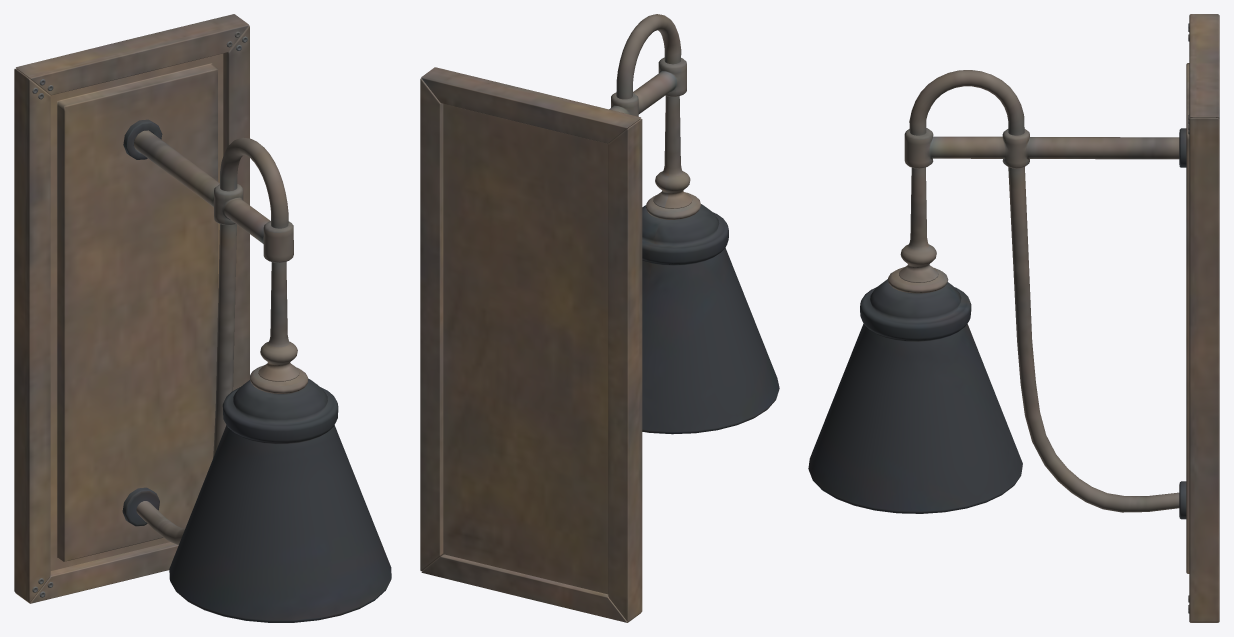
Rendered from wall_sconce.glb.
The picture shows the model from 3 angles, left to right: view 1: azimuth 30°, elevation 25°; view 2: azimuth 150°, elevation 25°; view 3: azimuth 270°, elevation 25°; orthographic projection. The views are drawn at different scales.
Visible parts, largest first — view 1: industrial_wall_sconce; view 2: industrial_wall_sconce; view 3: industrial_wall_sconce.
Boxes of the visible parts, x1,y1,x2,y2 form: industrial_wall_sconce: (14, 14, 391, 622); industrial_wall_sconce: (420, 14, 779, 622); industrial_wall_sconce: (808, 14, 1219, 622).
Bounding box in the file's own units: 0.1503 × 0.3418 × 0.2516.
Materials: 2 (2 with a texture image).
